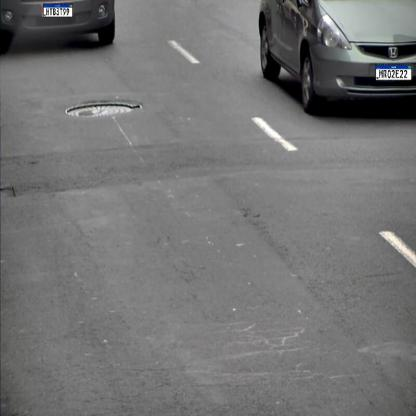PlacaM: (375, 64, 412, 80), (43, 4, 73, 18)
